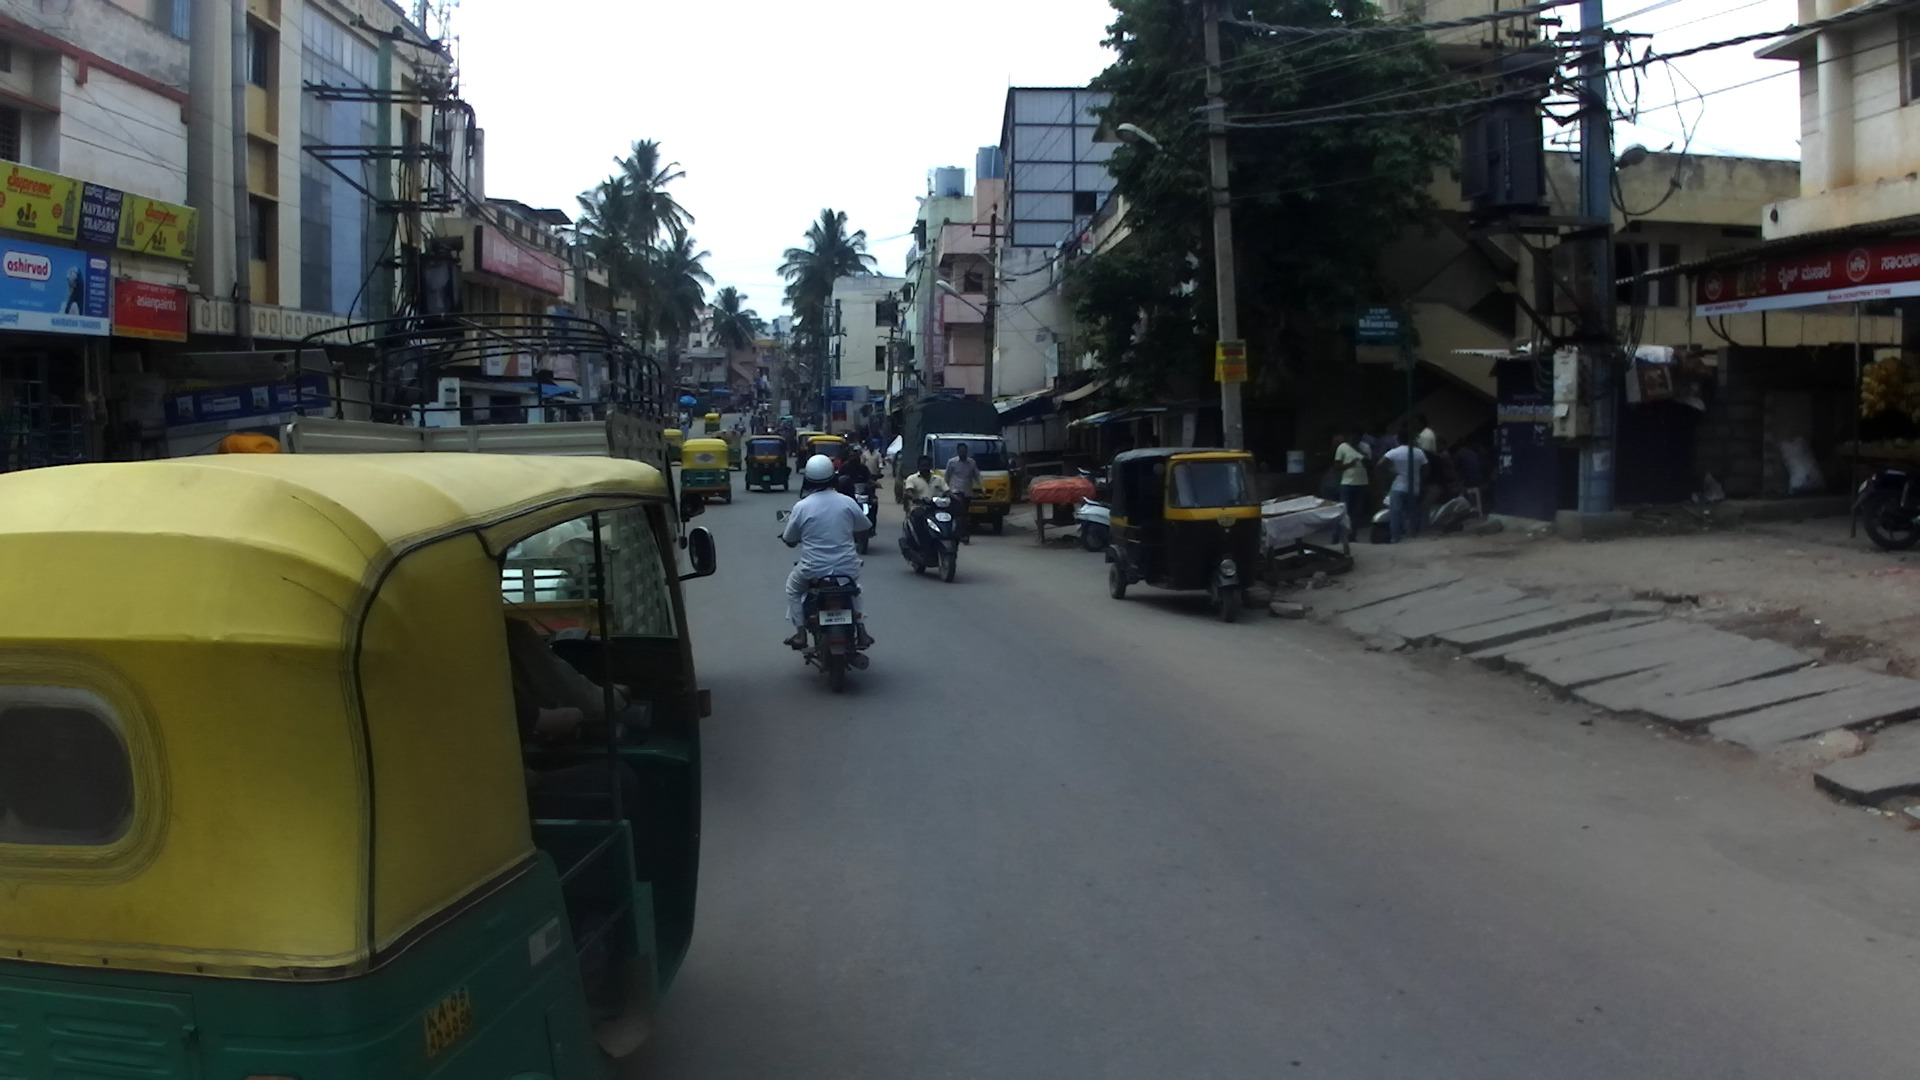autorickshaw: (1, 450, 717, 1078), (1102, 449, 1267, 622), (680, 439, 733, 502), (743, 435, 791, 492), (806, 435, 849, 475), (710, 428, 744, 471), (794, 431, 826, 476), (663, 428, 682, 461), (704, 412, 721, 433)
motorcycle: (765, 503, 899, 692), (1371, 473, 1470, 546), (891, 493, 968, 581), (1847, 465, 1915, 556), (831, 470, 884, 554), (1071, 494, 1120, 553), (1076, 465, 1117, 499), (731, 422, 745, 440)
person: (1378, 431, 1428, 543), (1332, 424, 1373, 546), (949, 442, 987, 547), (1369, 422, 1399, 515), (1353, 422, 1376, 518), (1320, 422, 1347, 503), (1408, 414, 1437, 485), (1456, 439, 1485, 492), (1431, 436, 1456, 487), (862, 440, 884, 488), (678, 419, 691, 442), (678, 409, 688, 426), (747, 415, 755, 434), (854, 438, 864, 456), (758, 410, 765, 429), (758, 401, 765, 415), (754, 412, 757, 426), (764, 403, 768, 413)
rider: (782, 454, 874, 650), (904, 456, 962, 556), (1413, 446, 1446, 531), (835, 455, 880, 499), (218, 431, 278, 463), (829, 476, 856, 504), (833, 447, 851, 479), (737, 414, 745, 435), (731, 421, 742, 433)
truck: (285, 309, 704, 591), (903, 396, 1010, 534)
vehicle fallback: (1839, 356, 1920, 538), (1031, 473, 1094, 545), (765, 416, 799, 456), (1006, 449, 1026, 506), (892, 453, 902, 504)
